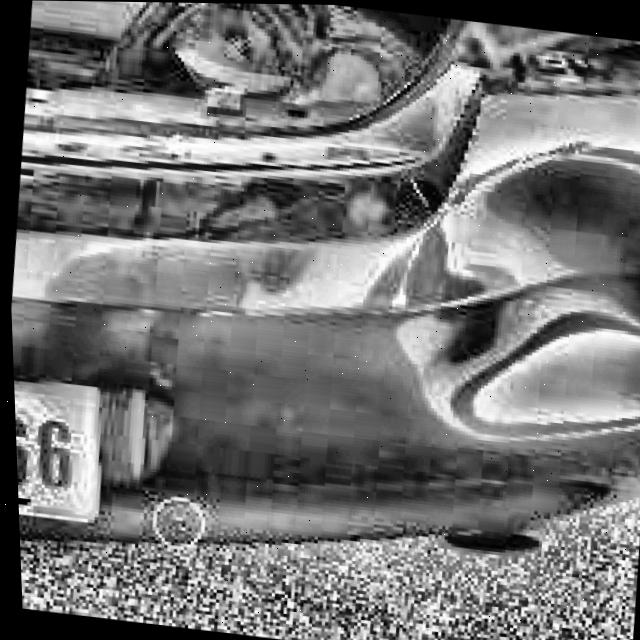bumper_dent: (371, 122, 640, 459)
